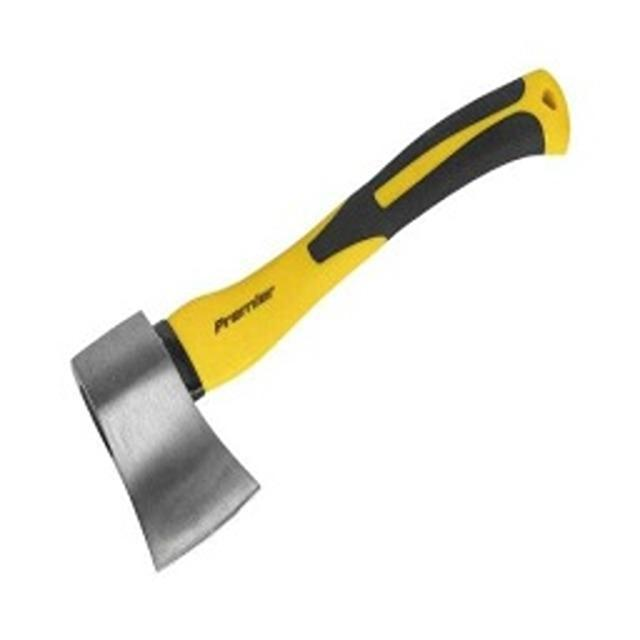ax: (63, 54, 581, 582)
